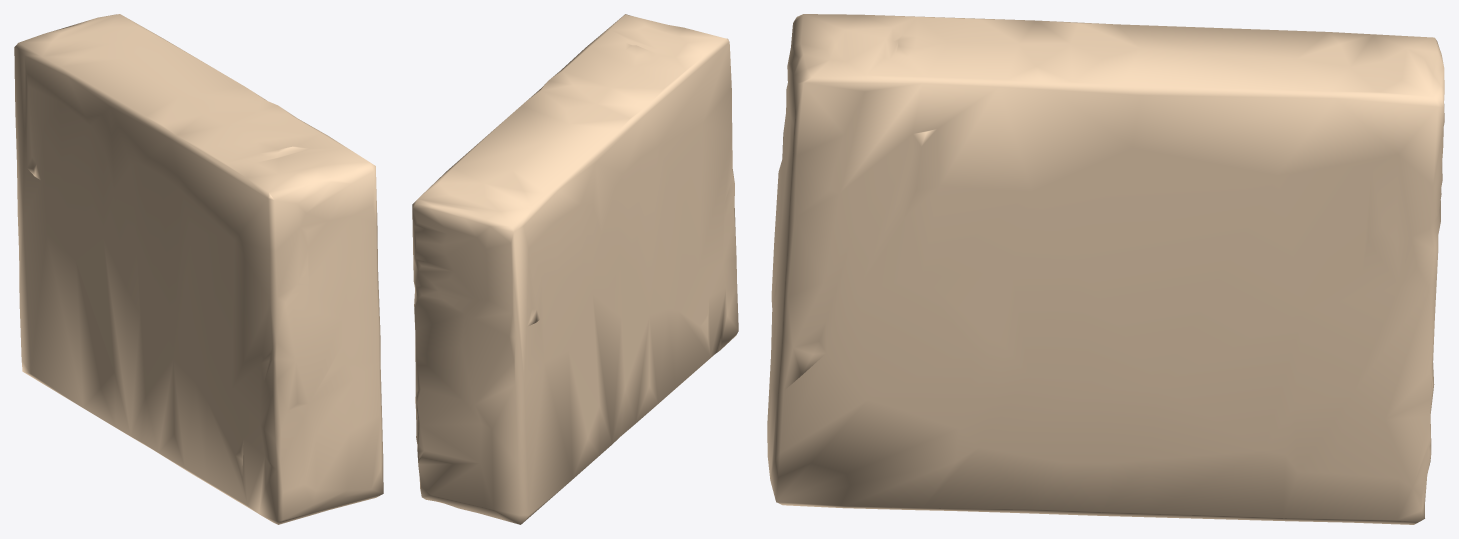
File: rectangularCube3_2.dae
3 views of the same model, side by side, from view 1: azimuth 30°, elevation 25°; view 2: azimuth 150°, elevation 25°; view 3: azimuth 270°, elevation 25° (orthographic). The views are drawn at different scales.
Parts seen in each view (by area): view 1: ChickenSoup_800_tex_019; view 2: ChickenSoup_800_tex_019; view 3: ChickenSoup_800_tex_019.
Boxes of the visible parts, x1,y1,x2,y2 form: ChickenSoup_800_tex_019: [14, 14, 383, 524]; ChickenSoup_800_tex_019: [412, 14, 738, 524]; ChickenSoup_800_tex_019: [767, 14, 1444, 524].
Bounding box in the file's own units: 0.0165 × 0.0593 × 0.045.
